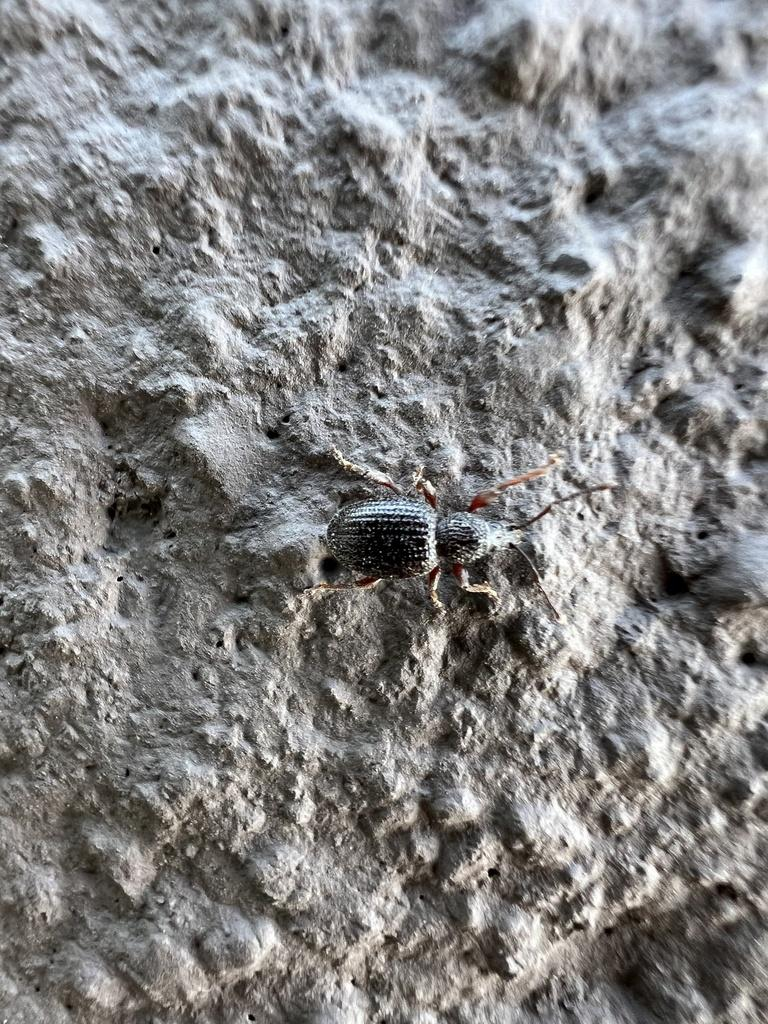weevils: (284, 426, 636, 646)
